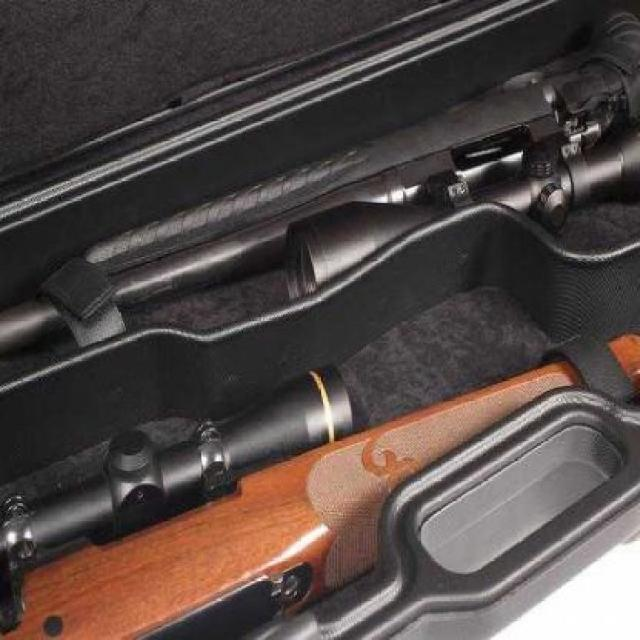weapon: (0, 356, 638, 630), (0, 96, 640, 312)
